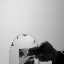h: (26, 40, 59, 62)
